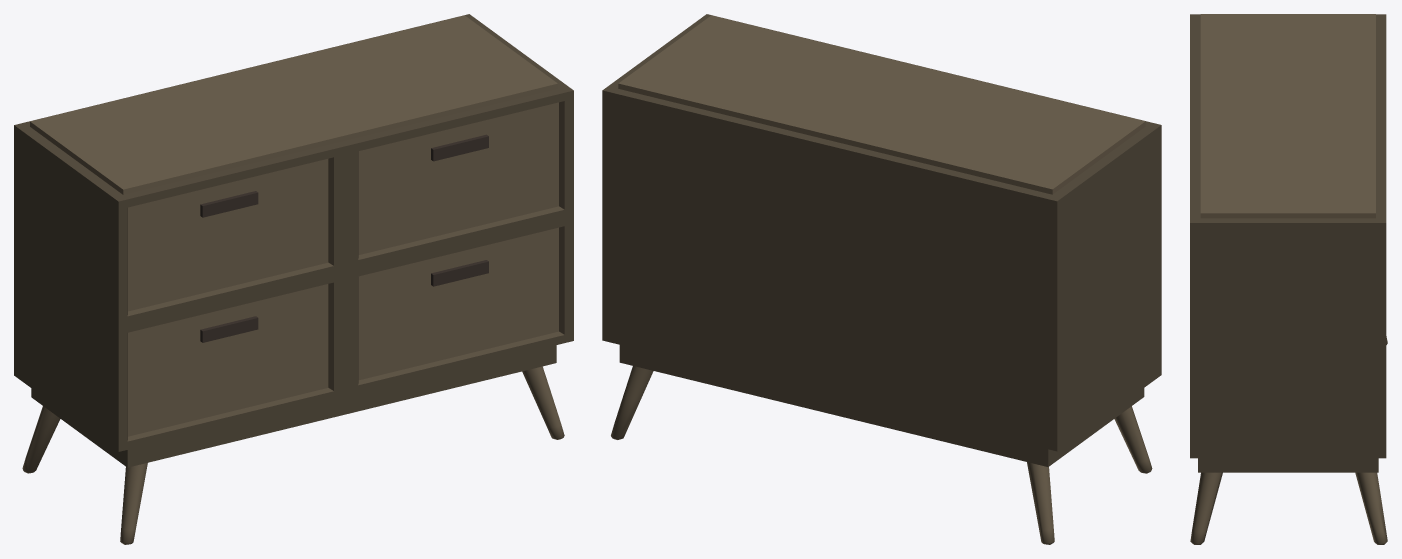
Rendered from quaternius-house-interior-drawer-4.glb.
The picture shows the model from 3 angles, left to right: view 1: azimuth 30°, elevation 25°; view 2: azimuth 150°, elevation 25°; view 3: azimuth 270°, elevation 25°; orthographic projection. The views are drawn at different scales.
Parts seen in each view (by area): view 1: Drawer_4; view 2: Drawer_4; view 3: Drawer_4.
Part boxes in pixels (box(x1,y1,x2,y2)): Drawer_4: box(14, 14, 573, 544); Drawer_4: box(602, 14, 1161, 544); Drawer_4: box(1190, 14, 1387, 544).
Bounding box in the file's own units: 2.79 × 2.07 × 1.12.
